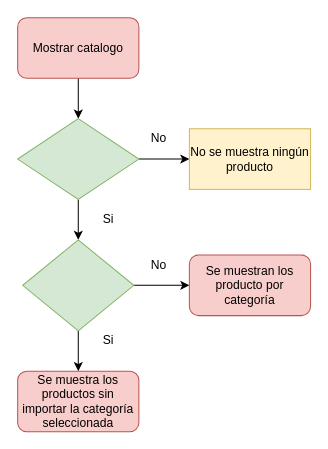
This 328x449 diagram has some shape labels left out. Each missing label, with the box of its shape:
El cliente filtro por categoría?: (22, 239, 134, 331)
El cliente filtro por linea?: (17, 118, 139, 199)
